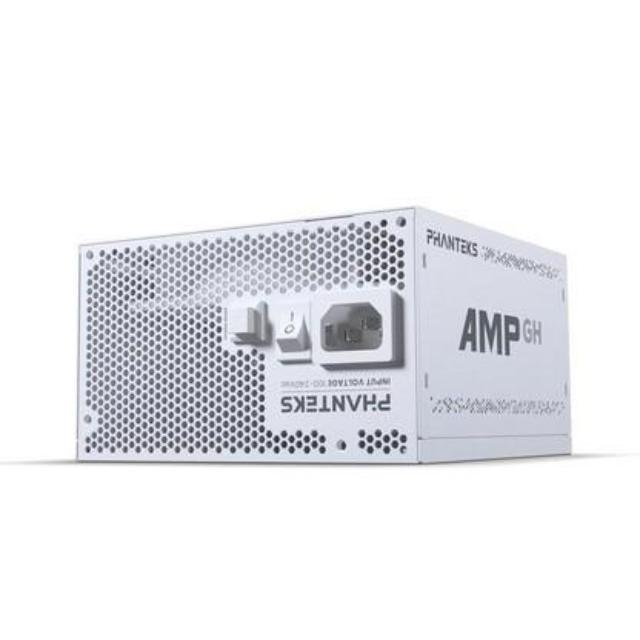PSU: (56, 193, 588, 484)
